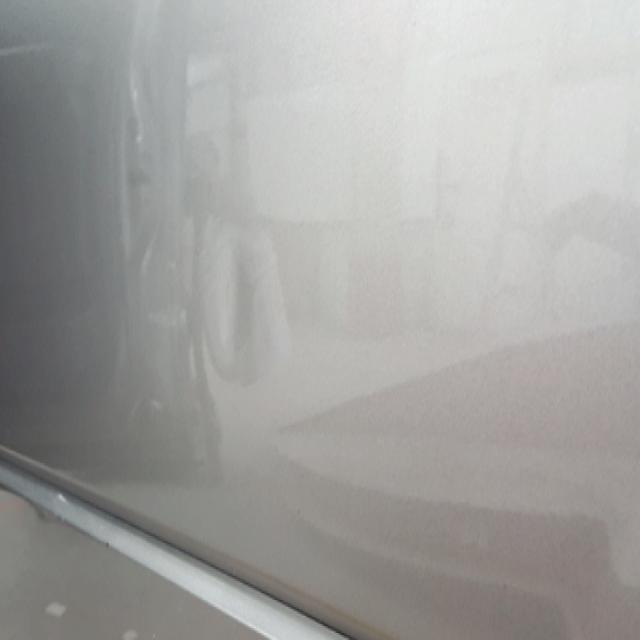dents: (188, 256, 293, 474)
